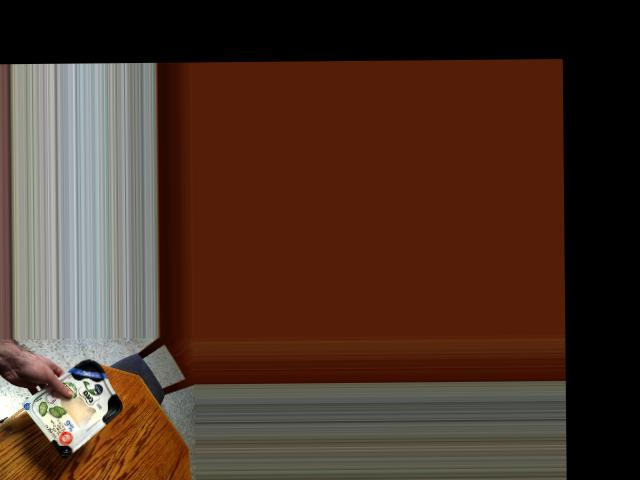cheese: (38, 356, 122, 450)
